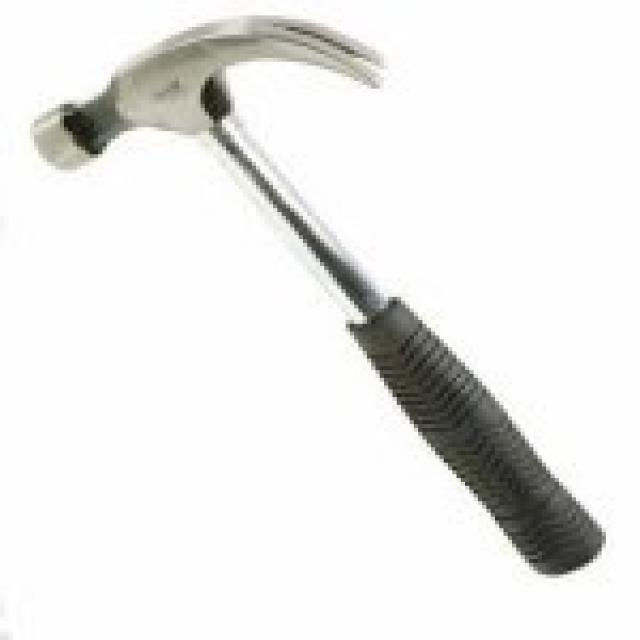hammer: (20, 3, 613, 580)
